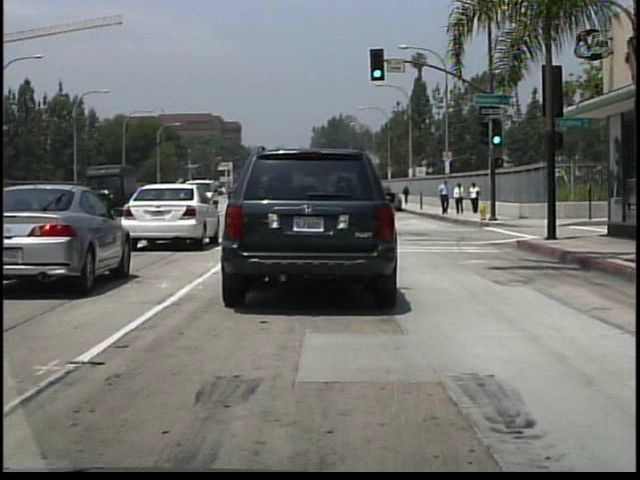person: (440, 178, 454, 217), (470, 181, 483, 215), (453, 183, 466, 217), (402, 183, 412, 205)
